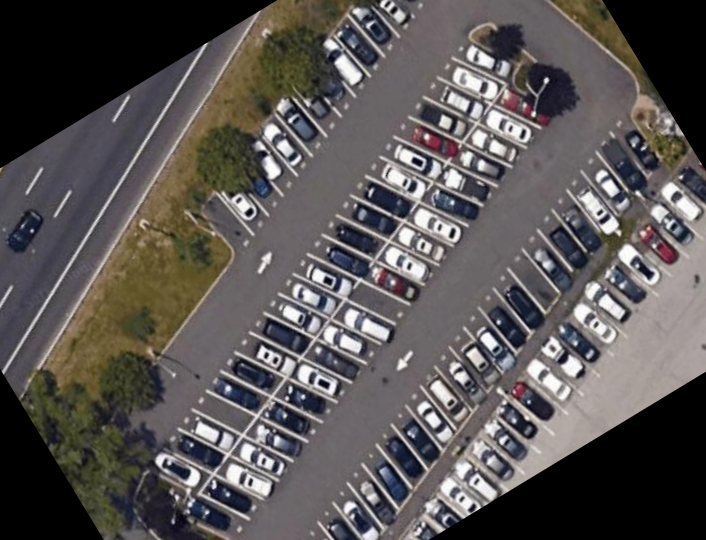parkingspot: (140, 33, 572, 540), (300, 104, 667, 540), (398, 148, 706, 540), (197, 0, 431, 262)
